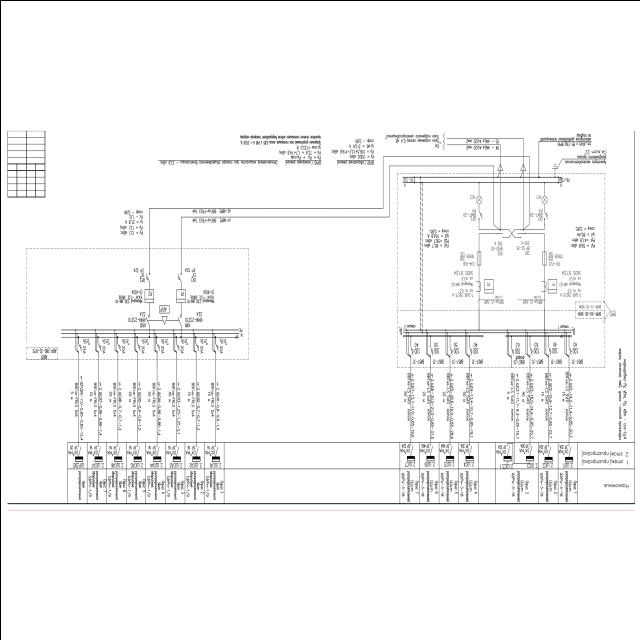-: (112, 287, 142, 303), (185, 287, 215, 303), (184, 309, 202, 323), (127, 310, 145, 322), (30, 346, 56, 354), (183, 266, 196, 278), (131, 265, 144, 277), (82, 336, 90, 354), (140, 337, 148, 353), (160, 337, 168, 353), (101, 337, 109, 353), (199, 338, 207, 353), (218, 338, 226, 353), (180, 338, 188, 353), (121, 338, 129, 353)
AVR: (158, 304, 169, 314)
KM: (144, 312, 150, 324), (176, 314, 182, 326)
QF: (144, 270, 150, 281), (176, 271, 182, 282), (77, 340, 81, 350), (96, 341, 100, 351), (116, 341, 120, 351), (136, 342, 140, 352), (155, 342, 159, 352), (174, 341, 178, 351), (194, 341, 198, 351), (214, 342, 218, 352)
WH: (175, 288, 185, 302), (144, 288, 154, 302)
